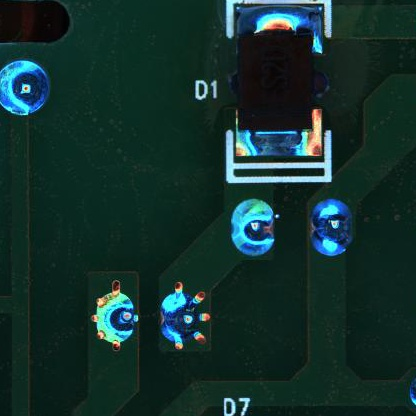spot: (156, 280, 211, 351), (91, 279, 139, 351), (1, 59, 54, 117), (230, 197, 276, 258), (308, 198, 352, 258)
